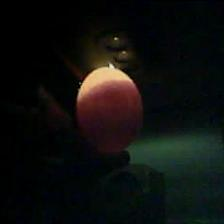fertile: (74, 65, 144, 154)
